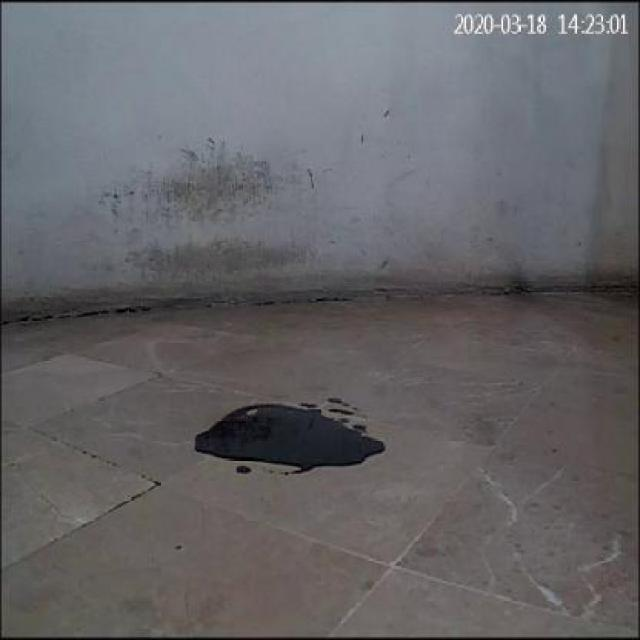spill: (192, 402, 382, 470)
